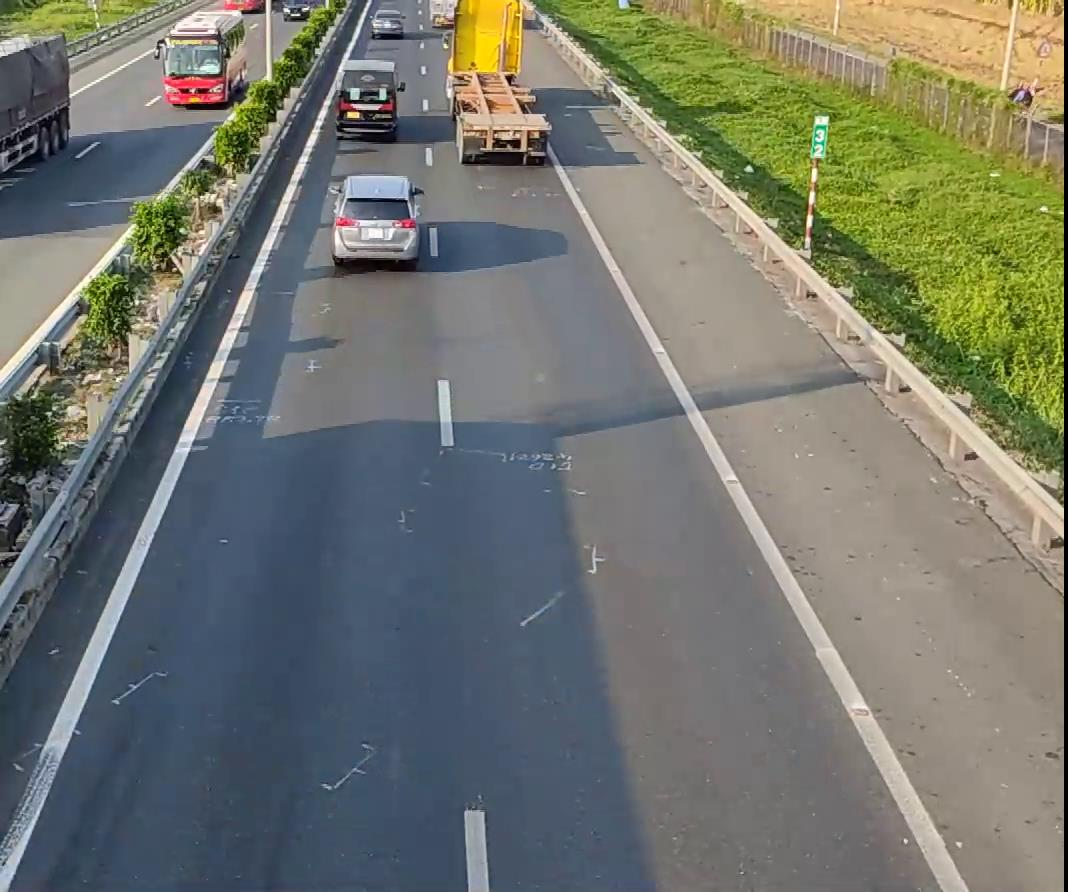bus: (160, 8, 248, 105)
car: (329, 172, 423, 267)
container: (443, 0, 549, 163)
truck: (0, 33, 71, 208)
